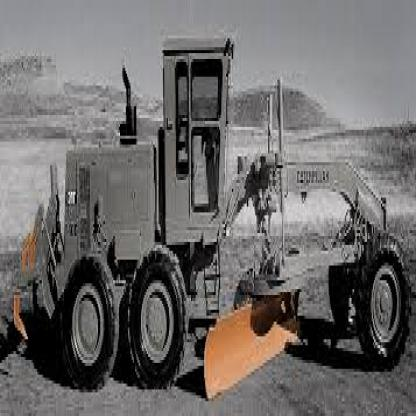bull_dozer/loader/grader: (28, 27, 415, 404)
